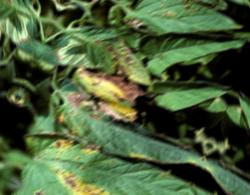Tomato leaf bacterial spot: (42, 78, 209, 190), (3, 109, 191, 195), (120, 0, 249, 69), (62, 13, 170, 90)
